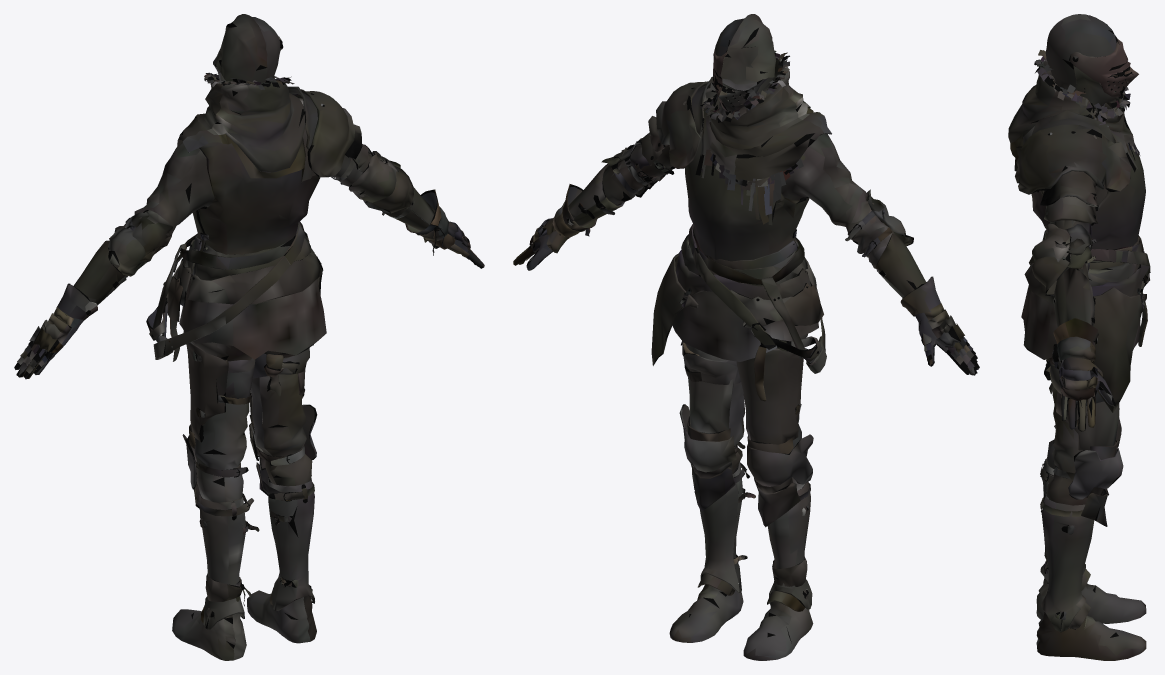
3 views of the same model, side by side, from view 1: azimuth 30°, elevation 25°; view 2: azimuth 150°, elevation 25°; view 3: azimuth 270°, elevation 25° (orthographic).
Visible parts, largest first — view 1: mesh_0; view 2: mesh_0; view 3: mesh_0.
Boxes of the visible parts, left/top/right/bottom form: mesh_0: left=14, top=14, right=484, bottom=660; mesh_0: left=513, top=14, right=979, bottom=660; mesh_0: left=1008, top=14, right=1150, bottom=660.
Size of the model in its own units: 55.97 by 71.32 by 14.85.
1 material, 1 textured.
